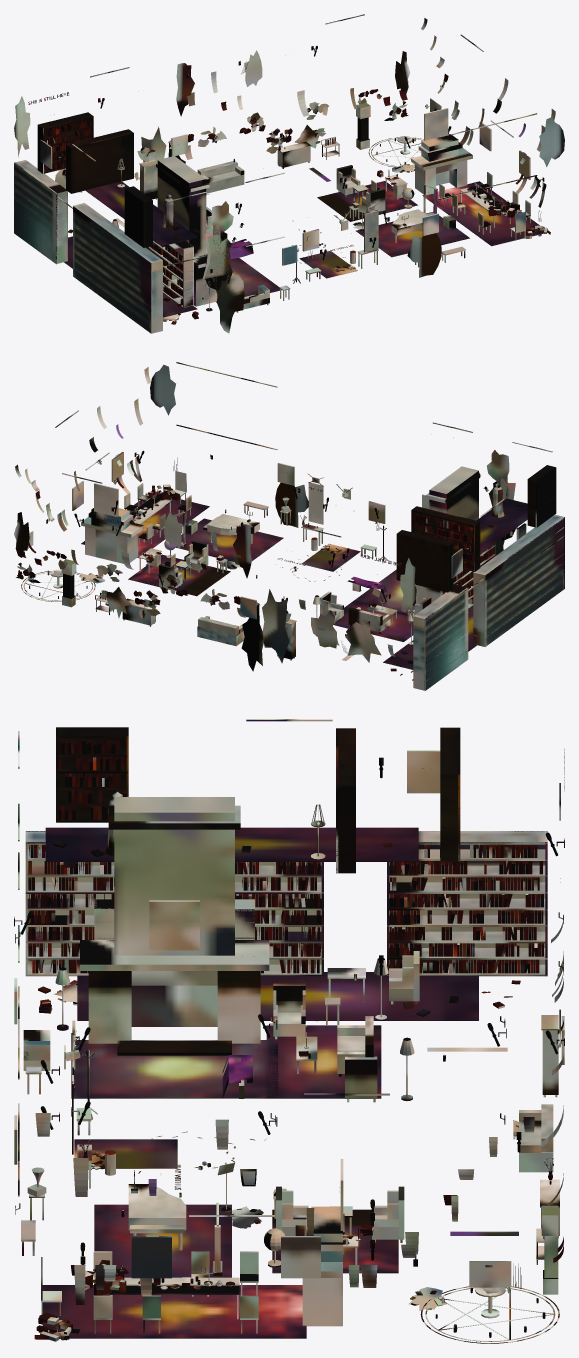
Rendered from hall_props.glb.
3 views of the same model, one above another, from view 1: azimuth 30°, elevation 25°; view 2: azimuth 150°, elevation 25°; view 3: azimuth 270°, elevation 25° (orthographic). The views are drawn at different scales.
Visible parts, largest first — view 1: CHUNK_hall_props; view 2: CHUNK_hall_props; view 3: CHUNK_hall_props.
Boxes of the visible parts, x1,y1,x2,y2 form: CHUNK_hall_props: [14, 14, 564, 333]; CHUNK_hall_props: [14, 362, 564, 690]; CHUNK_hall_props: [14, 719, 564, 1343].
Bounding box in the file's own units: 23.6 × 8.4 × 14.4.
1 material, 1 textured.
